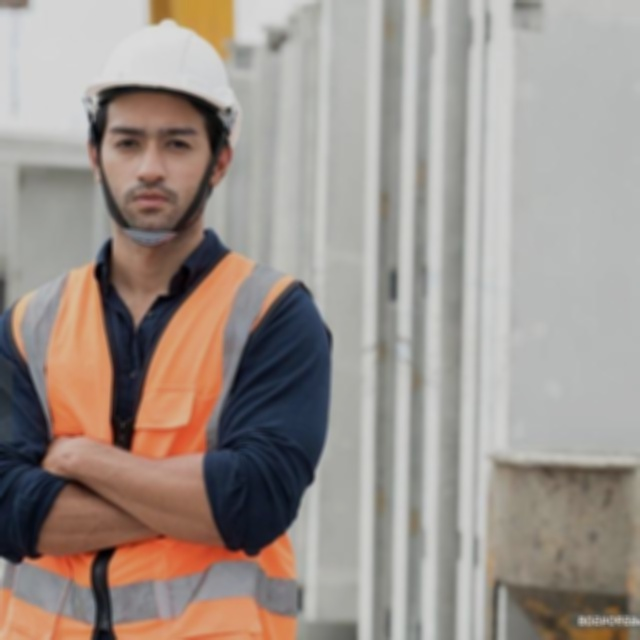Con_Casco: (80, 22, 244, 245)
Con_Chaleco: (0, 252, 303, 640)
